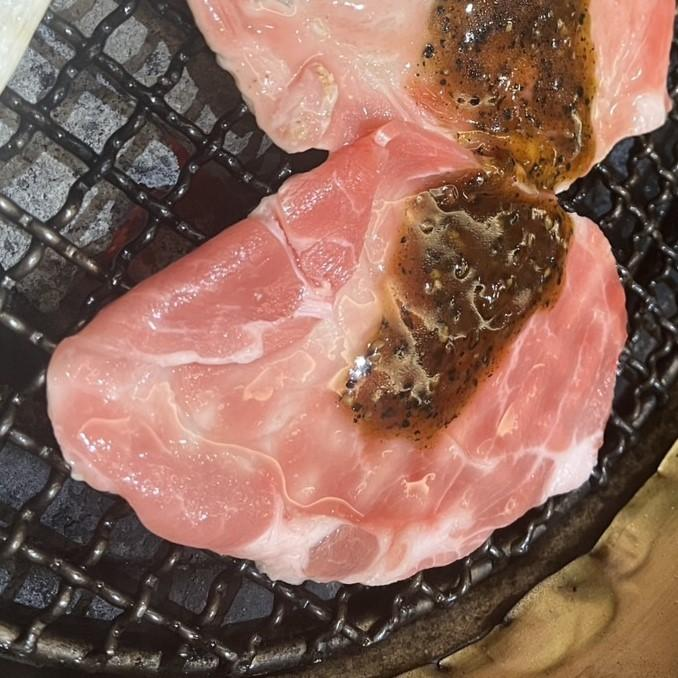Undercooked: (47, 0, 672, 585)
